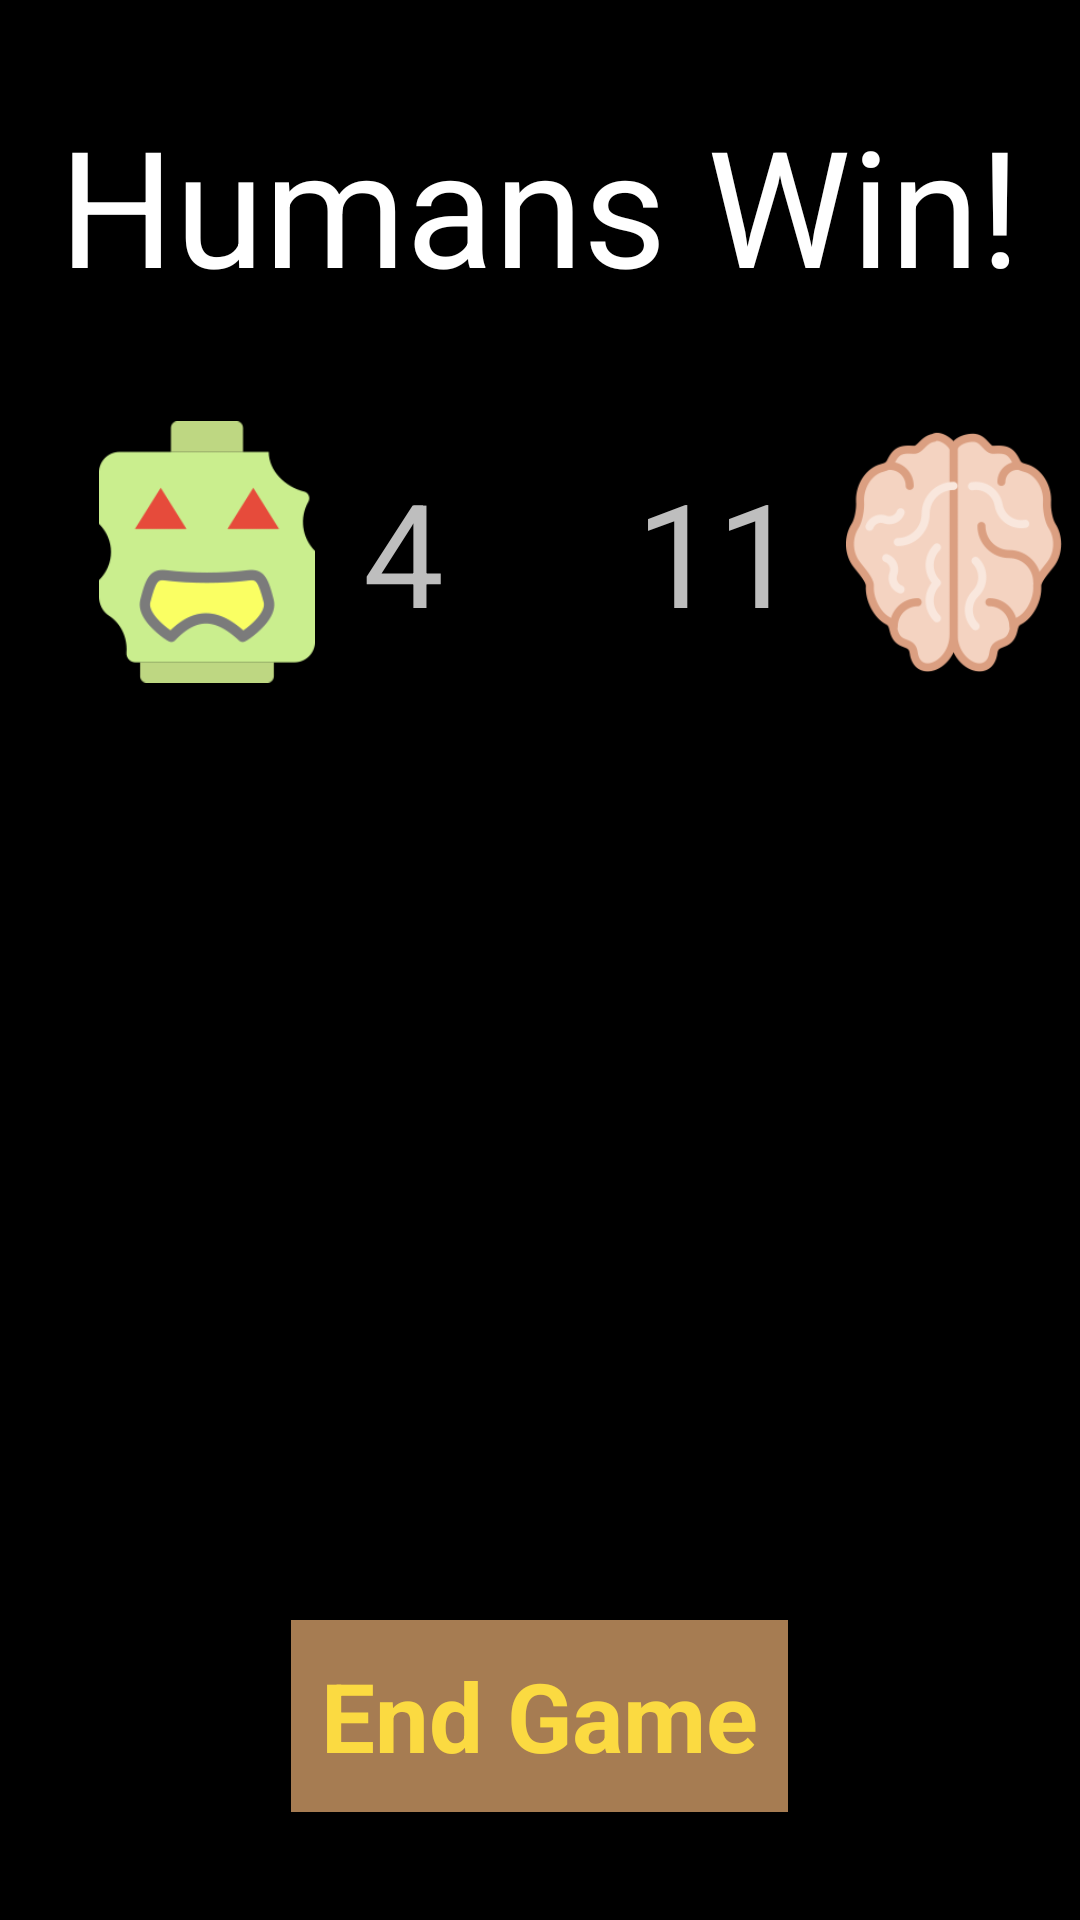

Screen size 1080 × 1920. Icon name, then its box in pixels as (x1, y1, x2, y2):
zombie: (99, 421, 315, 683)
